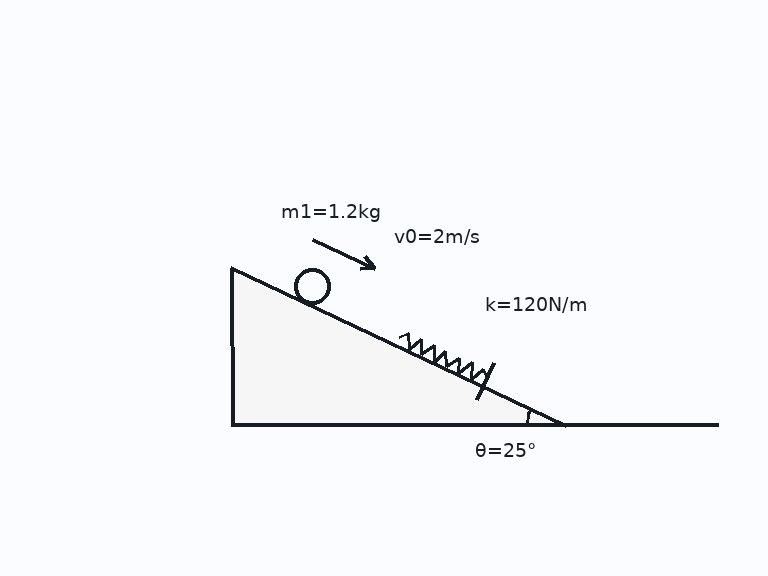ball: (292, 266, 332, 306)
ramp: (229, 266, 569, 427)
spring: (397, 331, 489, 380)
